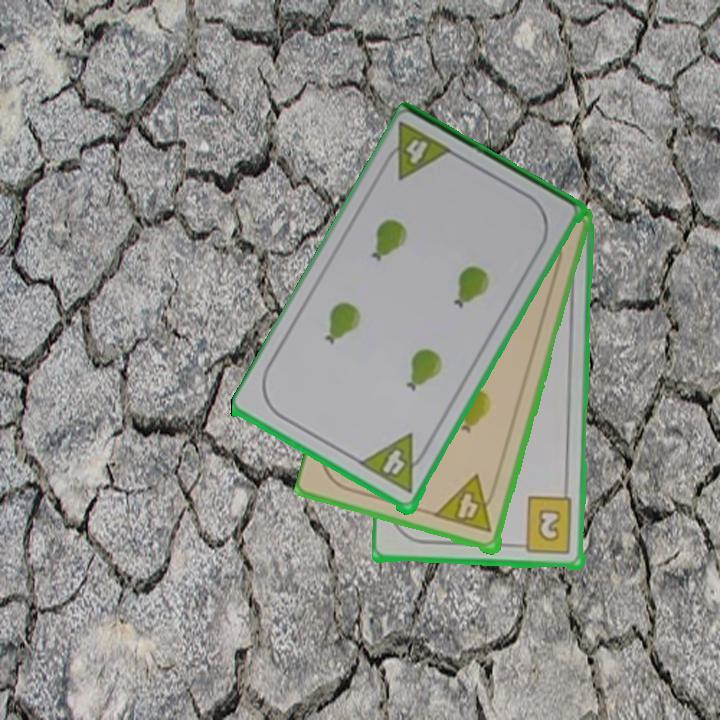2b: (513, 495, 576, 557)
4p: (377, 119, 458, 184), (357, 431, 433, 497), (433, 473, 501, 536)
